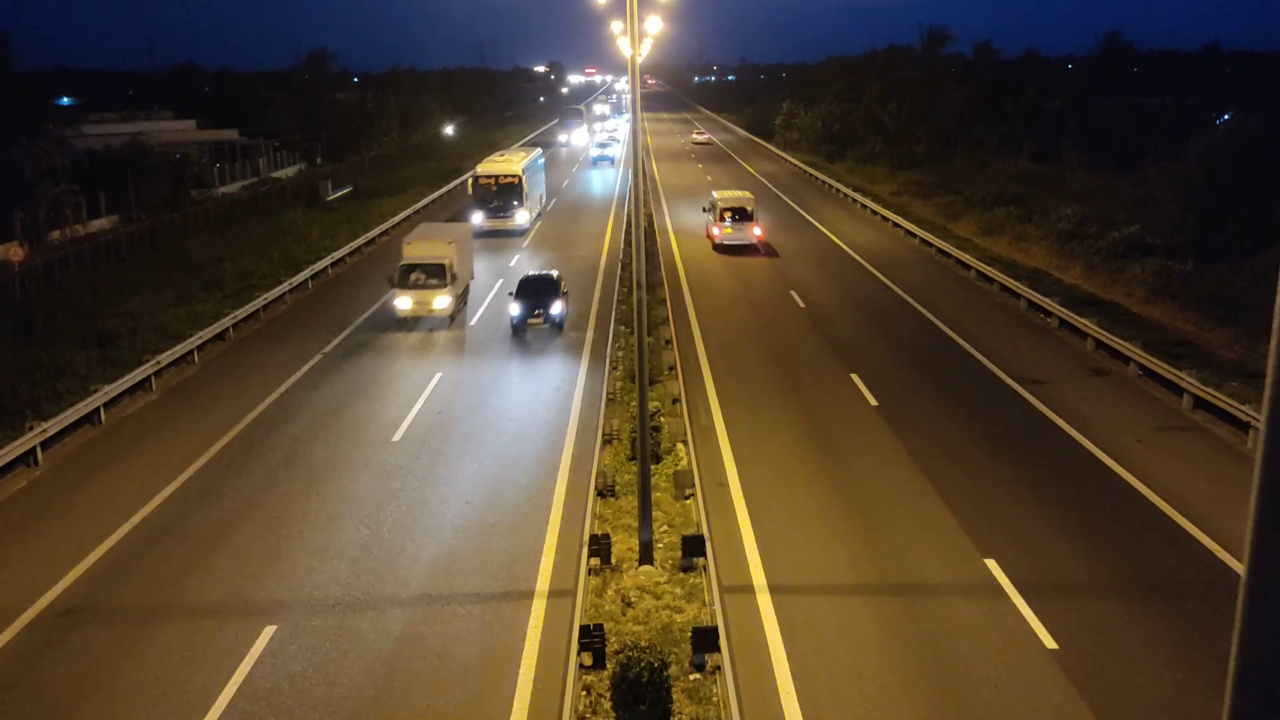bus: (470, 146, 547, 236)
car: (507, 269, 569, 337)
truck: (389, 220, 476, 330)
